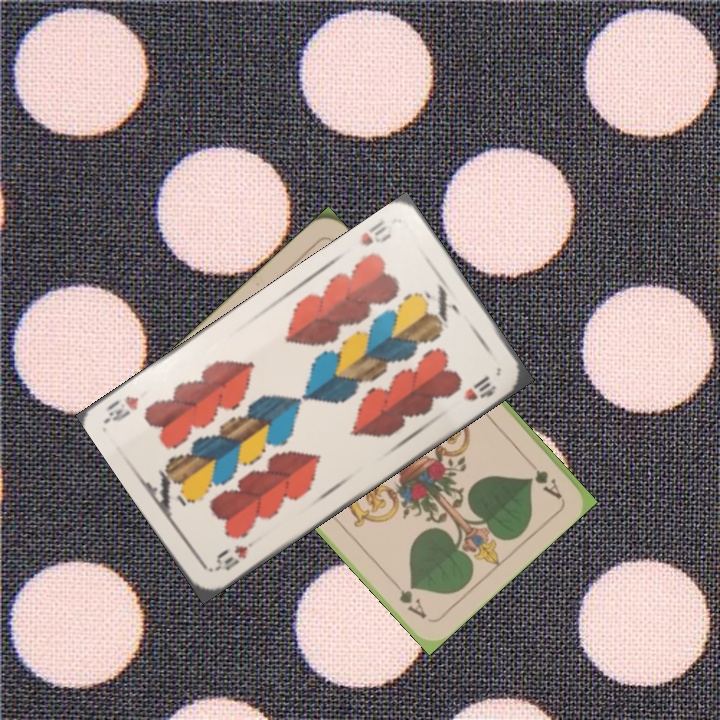GA: (519, 452, 565, 501)
H10: (210, 540, 250, 574), (356, 216, 394, 249)
